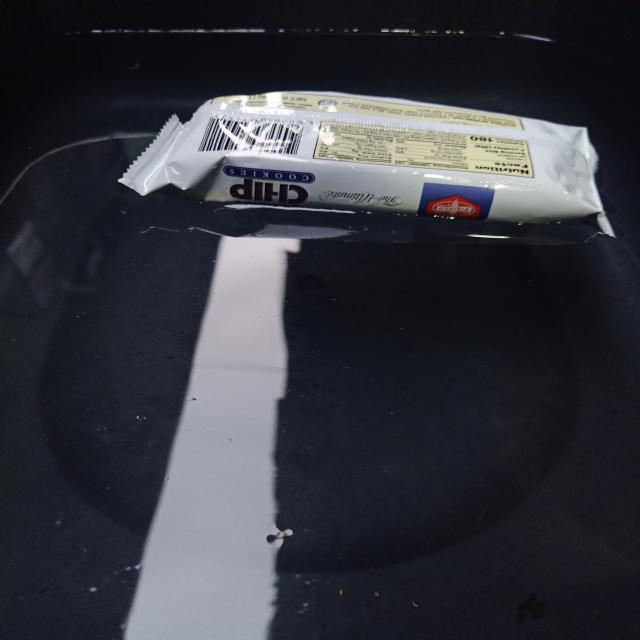Plastic Wrapper: (120, 92, 613, 235)
